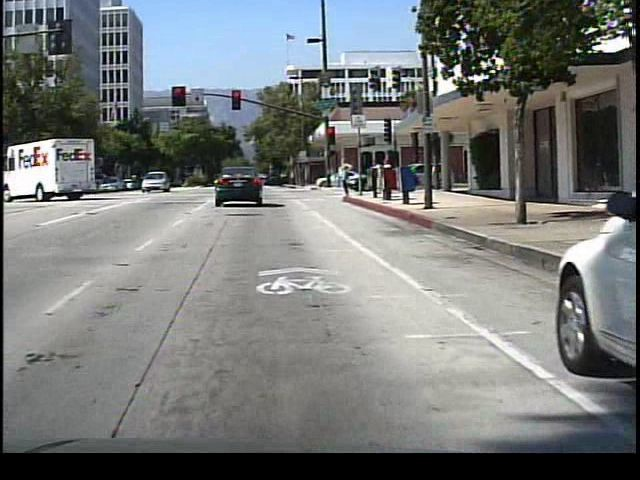person: (336, 151, 358, 201)
